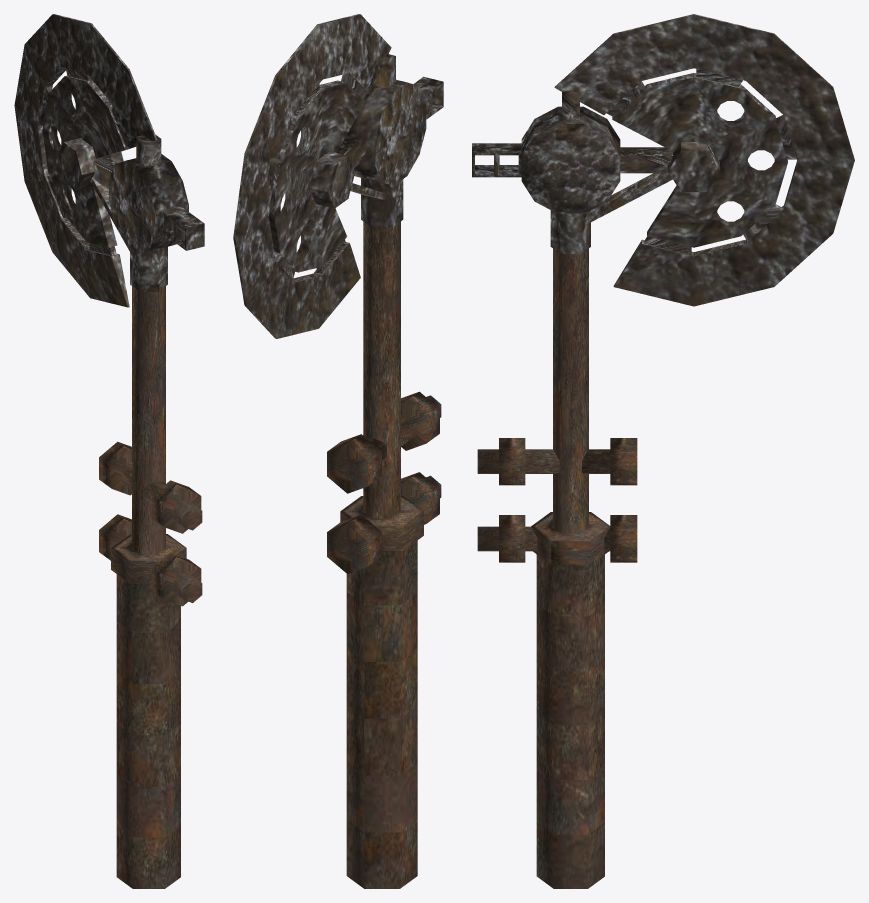
The model's file is Axe.fbx.
3 renders of one model, left to right at view 1: azimuth 30°, elevation 25°; view 2: azimuth 150°, elevation 25°; view 3: azimuth 270°, elevation 25°, orthographic. The views are drawn at different scales.
Parts seen in each view (by area): view 1: Axe model; view 2: Axe model; view 3: Axe model.
Boxes of the visible parts, x1,y1,x2,y2 form: Axe model: [14, 14, 204, 888]; Axe model: [233, 14, 443, 888]; Axe model: [472, 14, 854, 888].
Bounding box in the file's own units: 13.55 × 185 × 74.43.
